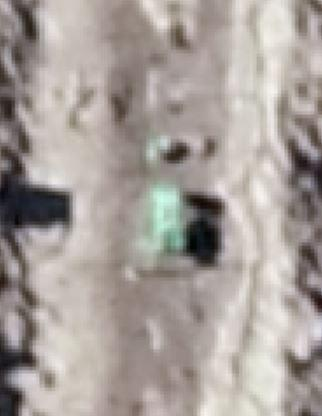cotton: (157, 222, 183, 254), (154, 186, 182, 212)
